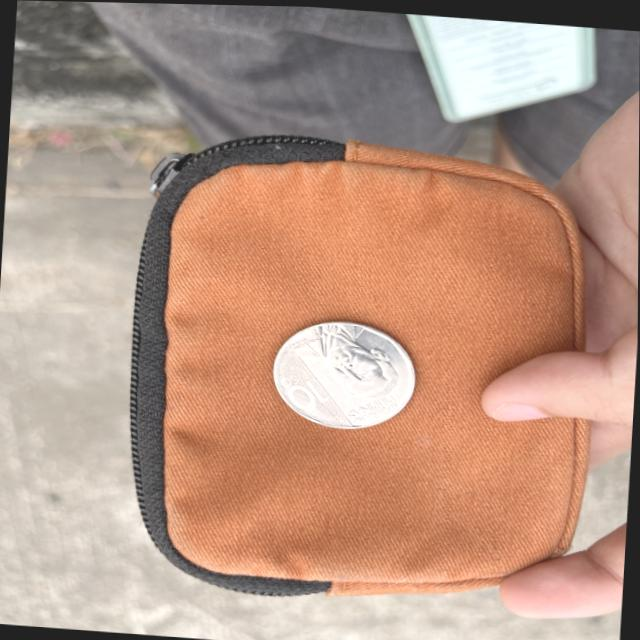10_New_Front: (277, 368, 334, 414)
